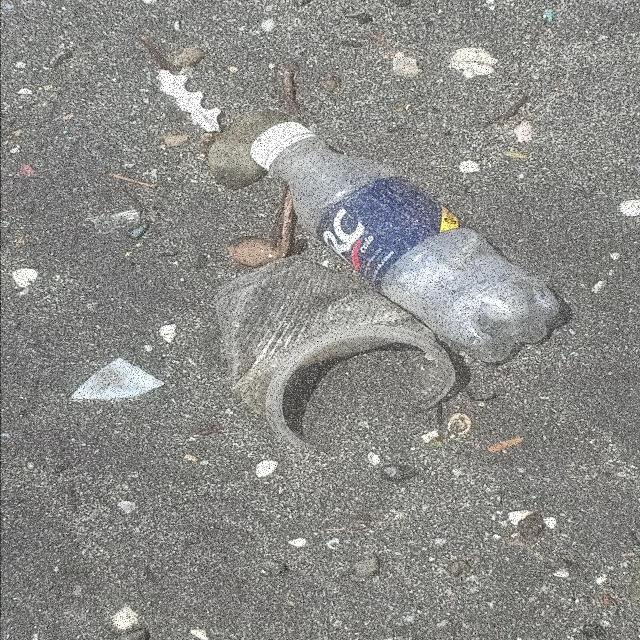plastic_waste: (248, 123, 562, 366), (215, 254, 463, 457)
